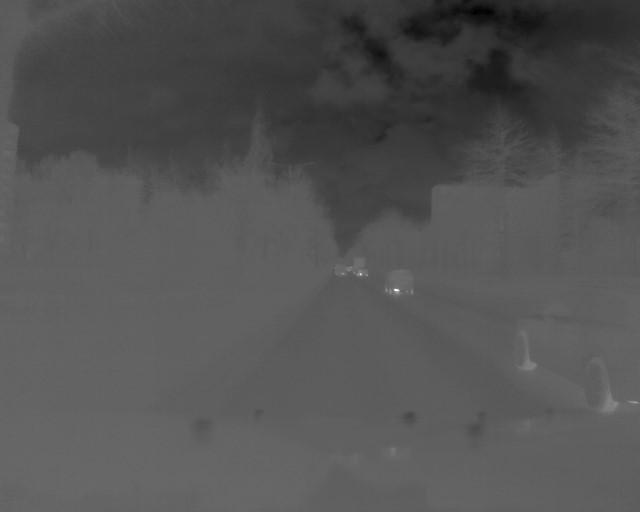car: (509, 284, 640, 412), (381, 267, 418, 297)
